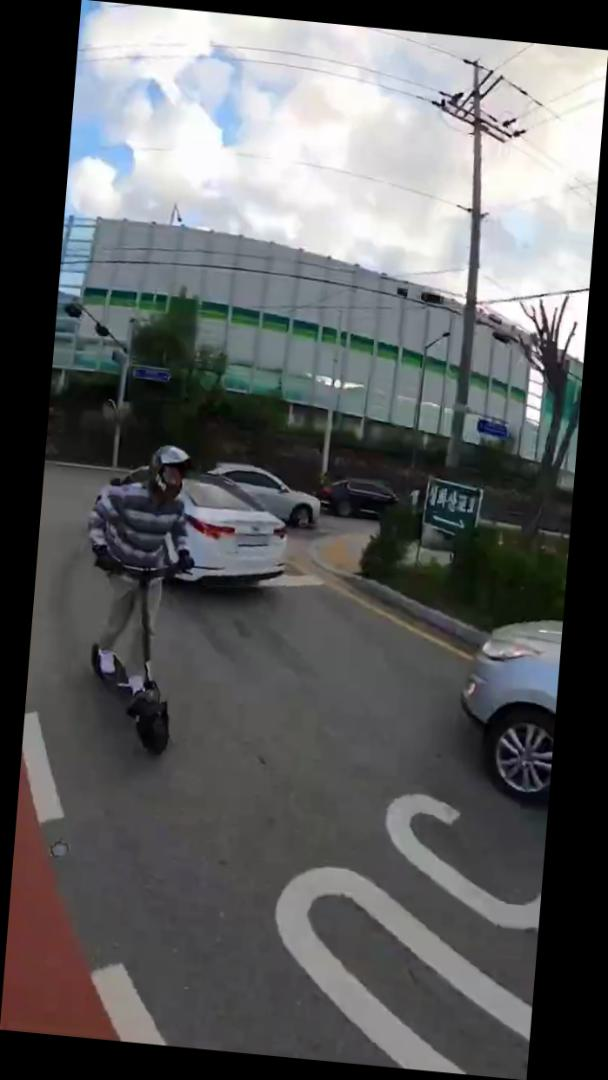helmet: (66, 432, 209, 762)
